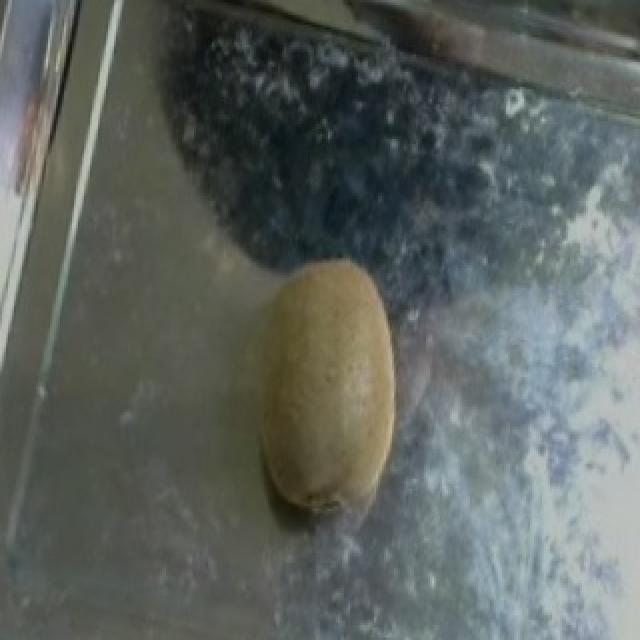Fruit: (204, 226, 450, 543)
